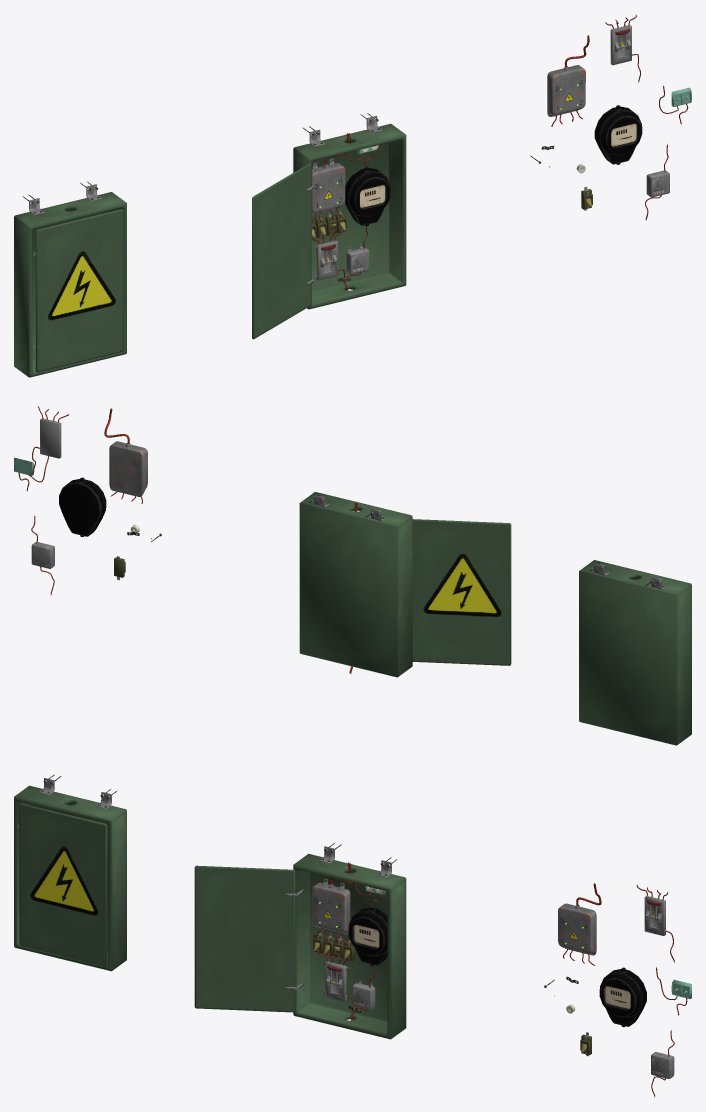
Rendered from table props 1.fbx.
3 views of the same model, one above another, from view 1: azimuth 30°, elevation 25°; view 2: azimuth 150°, elevation 25°; view 3: azimuth 330°, elevation 25° (orthographic).
Visible parts, largest first — view 1: ___________________018_K_0, ___________________021_K_0, ____________________________________________________________ (×4); view 2: ___________________018_K_0, ___________________021_K_0, ____________________________________________________________ (×4); view 3: ___________________018_K_0, ___________________021_K_0, ____________________________________________________________ (×4).
Part boxes in pixels (x1,y1,x2,y2): ___________________018_K_0: [252, 113, 406, 339]; ___________________021_K_0: [14, 181, 126, 377]; ____________________________________________________________ (×4): [547, 25, 669, 197]; ___________________018_K_0: [299, 492, 511, 677]; ___________________021_K_0: [579, 560, 691, 745]; ____________________________________________________________ (×4): [31, 418, 147, 568]; ___________________018_K_0: [194, 843, 406, 1039]; ___________________021_K_0: [14, 774, 126, 971]; ____________________________________________________________ (×4): [558, 895, 674, 1078].
Size of the model in its own units: 3.08 by 0.9053 by 0.3765.
6 materials, 5 textured.
